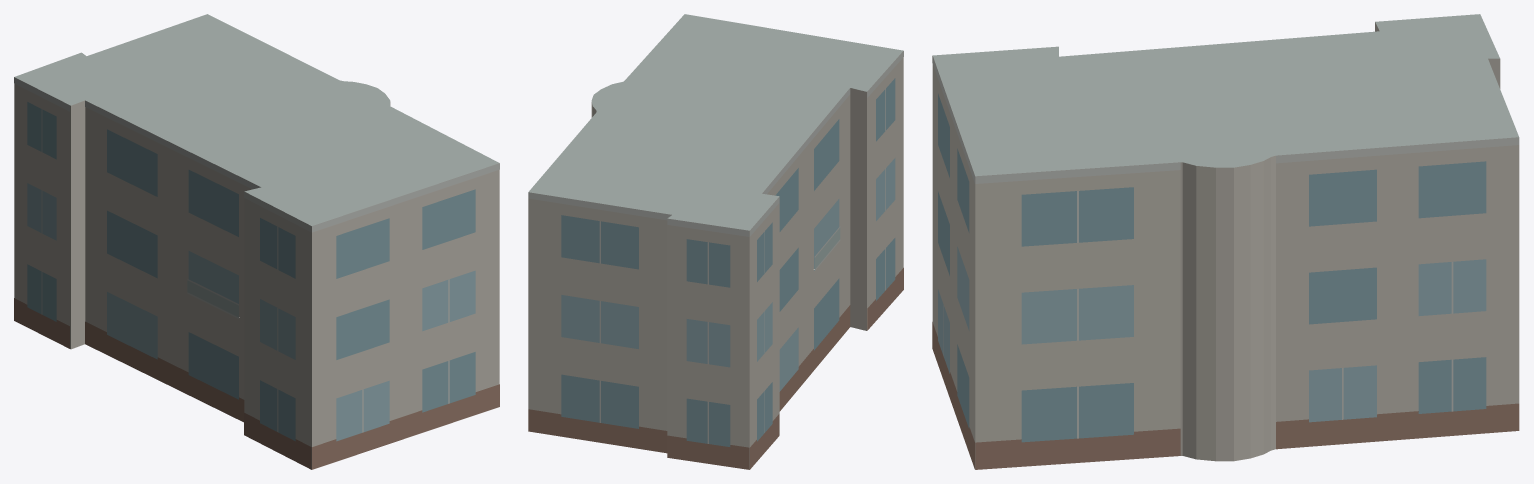
The model's file is survey-upis-32757572.glb.
3 views of the same model, side by side, from view 1: azimuth 30°, elevation 25°; view 2: azimuth 150°, elevation 25°; view 3: azimuth 270°, elevation 25° (orthographic). The views are drawn at different scales.
Visible parts, largest first — view 1: survey-upis-32757572.tmp; view 2: survey-upis-32757572.tmp; view 3: survey-upis-32757572.tmp.
Part boxes in pixels (x1,y1,x2,y2): survey-upis-32757572.tmp: [14, 14, 499, 469]; survey-upis-32757572.tmp: [528, 14, 903, 469]; survey-upis-32757572.tmp: [932, 14, 1519, 469].
Bounding box in the file's own units: 10.91 × 9.2 × 16.67.
